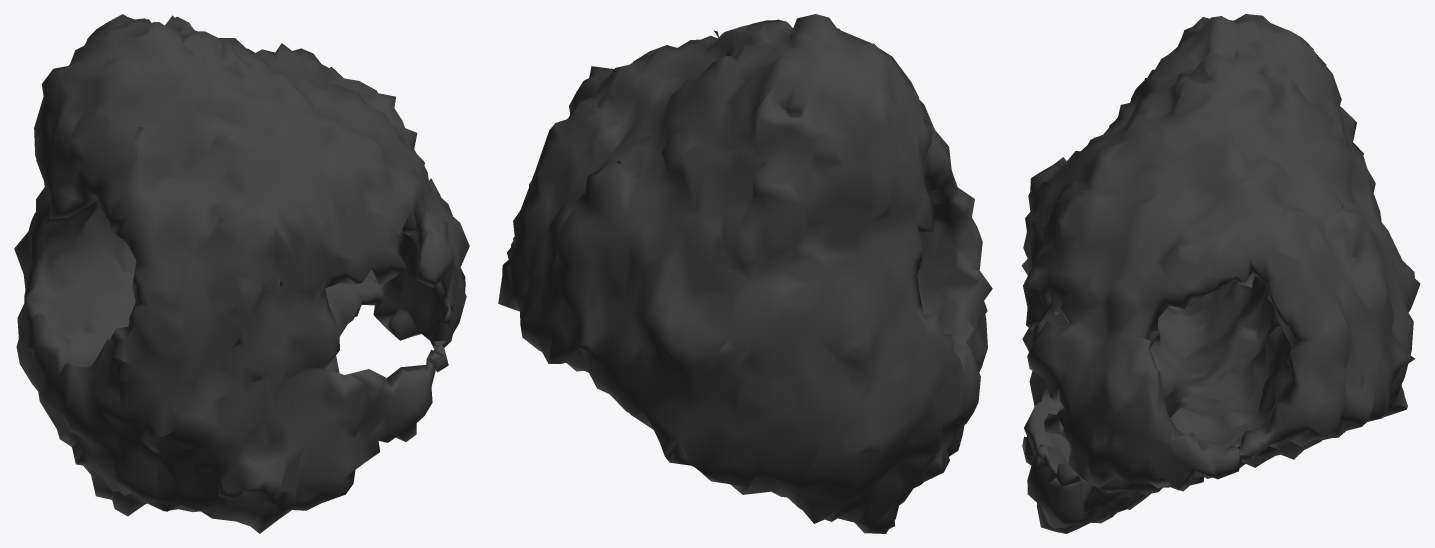
File: cavern-0.glb
3 renders of one model, left to right at view 1: azimuth 30°, elevation 25°; view 2: azimuth 150°, elevation 25°; view 3: azimuth 270°, elevation 25°, orthographic. The views are drawn at different scales.
Parts seen in each view (by area): view 1: geometry_0; view 2: geometry_0; view 3: geometry_0.
Boxes of the visible parts, box(x1,y1,x2,y2) form: geometry_0: box(14, 14, 469, 533); geometry_0: box(498, 14, 992, 533); geometry_0: box(1021, 14, 1420, 533).
Bounding box in the file's own units: 0.8797 × 1 × 0.7311.
1 material, 1 textured.
